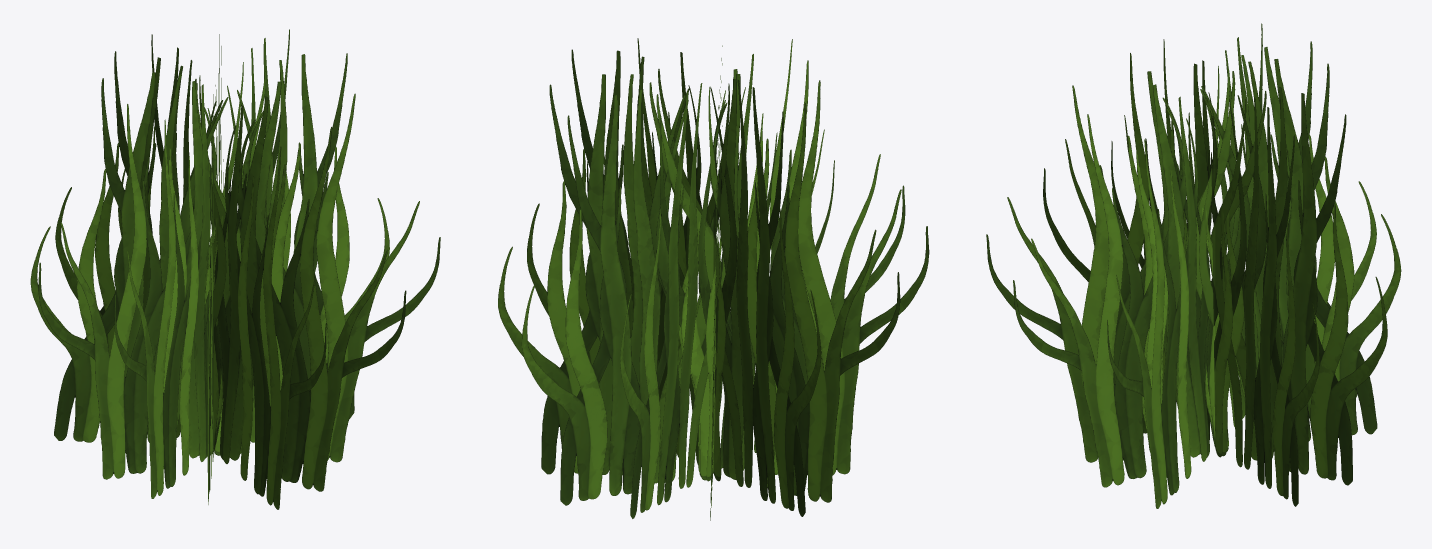
Rendered from Grassbig.fbx.
3 views of the same model, side by side, from view 1: azimuth 30°, elevation 25°; view 2: azimuth 150°, elevation 25°; view 3: azimuth 270°, elevation 25° (orthographic). The views are drawn at different scales.
Parts seen in each view (by area): view 1: Big_Grass6; view 2: Big_Grass6; view 3: Big_Grass6.
Boxes of the visible parts, bbox=[...] form: Big_Grass6: bbox=[30, 29, 440, 509]; Big_Grass6: bbox=[498, 38, 929, 520]; Big_Grass6: bbox=[986, 23, 1401, 508].
Size of the model in its own units: 0.4937 by 0.5156 by 0.4992.
